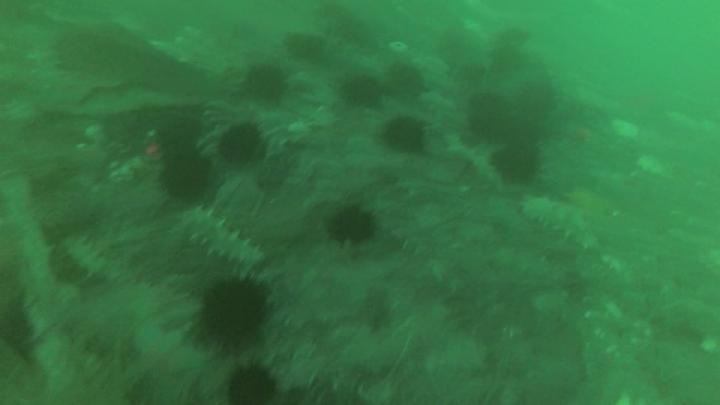holothurian: (181, 210, 266, 276), (523, 197, 600, 249), (61, 241, 138, 286)
starfish: (206, 281, 270, 342), (164, 149, 213, 197), (474, 114, 541, 147), (232, 368, 277, 405), (493, 151, 539, 185), (223, 126, 263, 165), (387, 117, 425, 155), (333, 206, 372, 243), (157, 118, 202, 149), (521, 77, 557, 113), (388, 63, 425, 98), (344, 77, 381, 111), (250, 67, 284, 102), (289, 32, 327, 62), (466, 96, 512, 117)
